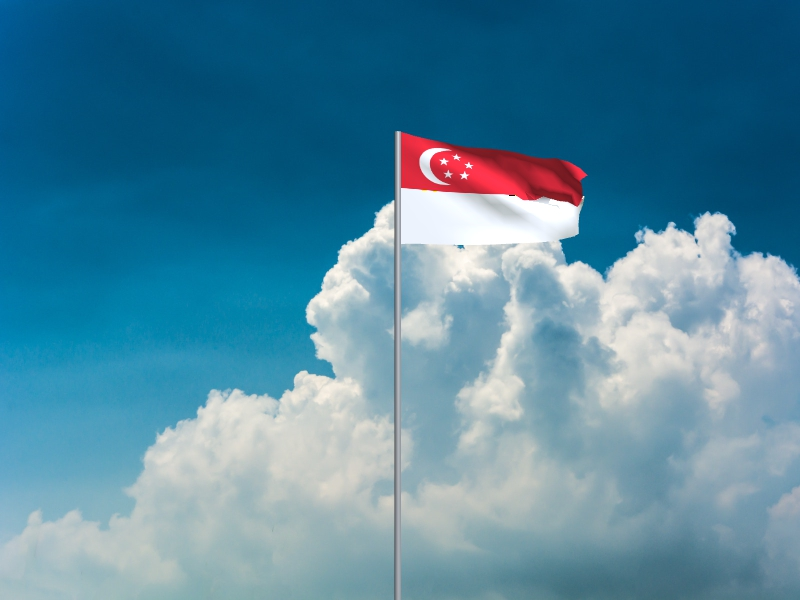sg: (402, 134, 590, 246)
